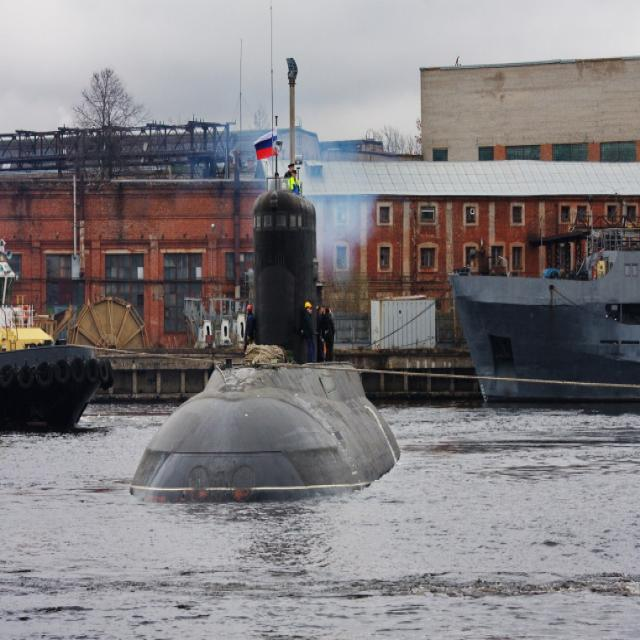submarine: (142, 54, 403, 497)
